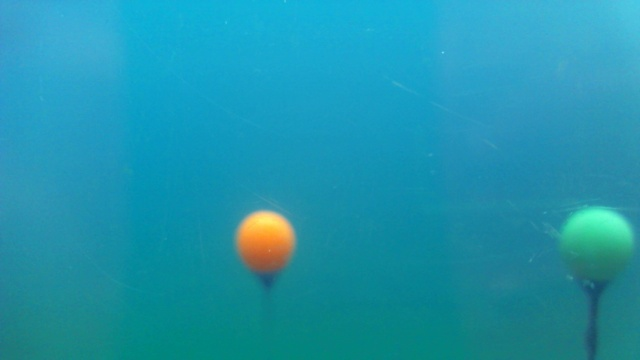buoy_green: (556, 198, 635, 294)
buoy_red: (236, 209, 295, 284)
